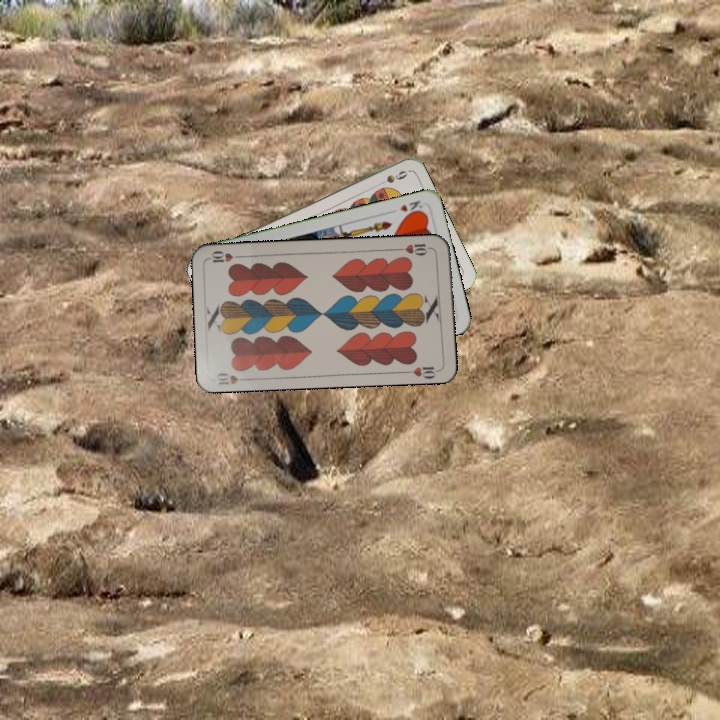H10: (395, 239, 435, 258), (212, 369, 252, 387)
HK: (395, 196, 425, 218)
S9: (371, 166, 410, 190)
